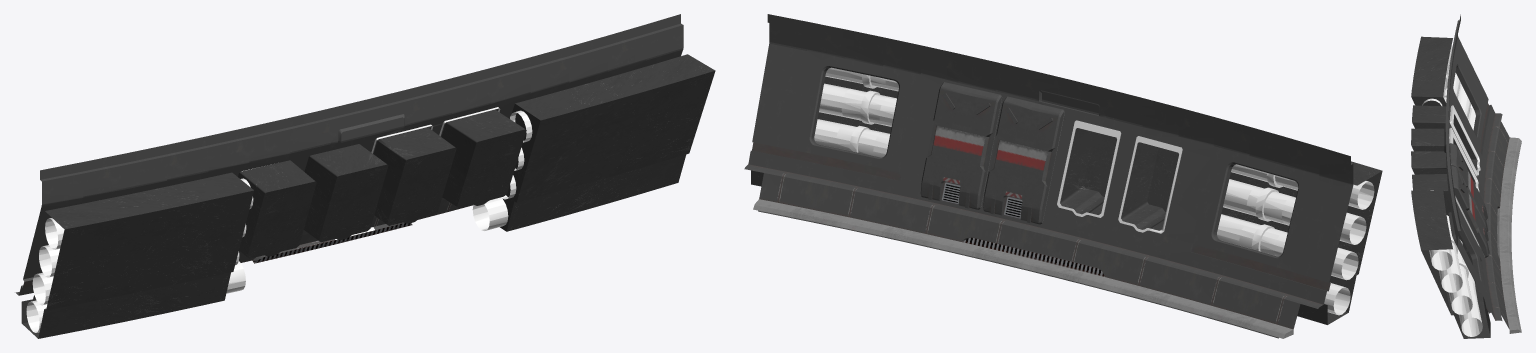
The model's file is Wall.gltf.
The picture shows the model from 3 angles, left to right: view 1: azimuth 30°, elevation 25°; view 2: azimuth 150°, elevation 25°; view 3: azimuth 270°, elevation 25°; orthographic projection. The views are drawn at different scales.
Parts seen in each view (by area): view 1: hall_circ1125_LowerDeckWall_2FlatWithPanels; view 2: hall_circ1125_LowerDeckWall_2FlatWithPanels; view 3: hall_circ1125_LowerDeckWall_2FlatWithPanels.
Boxes of the visible parts, <box> form: hall_circ1125_LowerDeckWall_2FlatWithPanels: <box>15,14,715,338</box>; hall_circ1125_LowerDeckWall_2FlatWithPanels: <box>744,14,1382,338</box>; hall_circ1125_LowerDeckWall_2FlatWithPanels: <box>1411,14,1521,338</box>.
Size of the model in its own units: 19.1 by 4.93 by 4.19.
6 materials, 4 textured.
